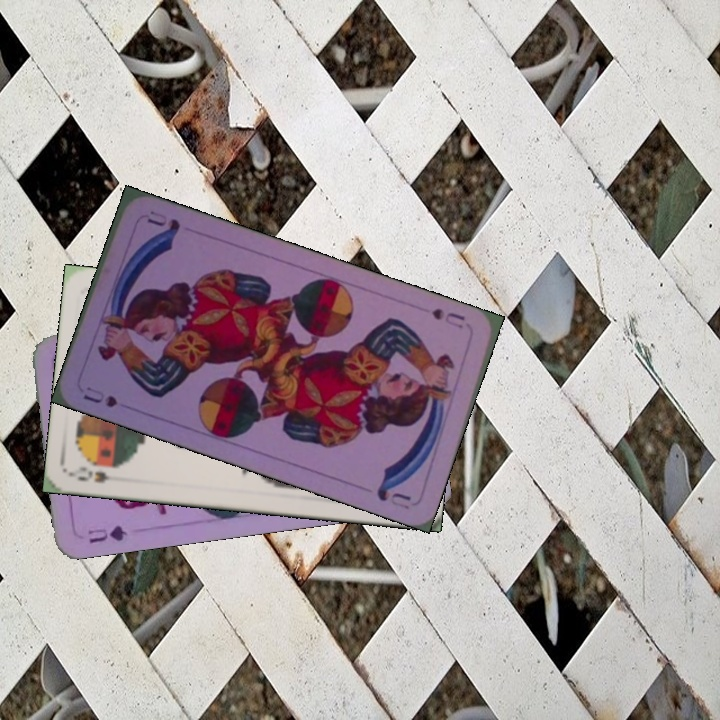GU: (84, 521, 130, 546)
SO: (70, 463, 112, 485)
SU: (79, 382, 120, 410), (428, 304, 468, 332)
